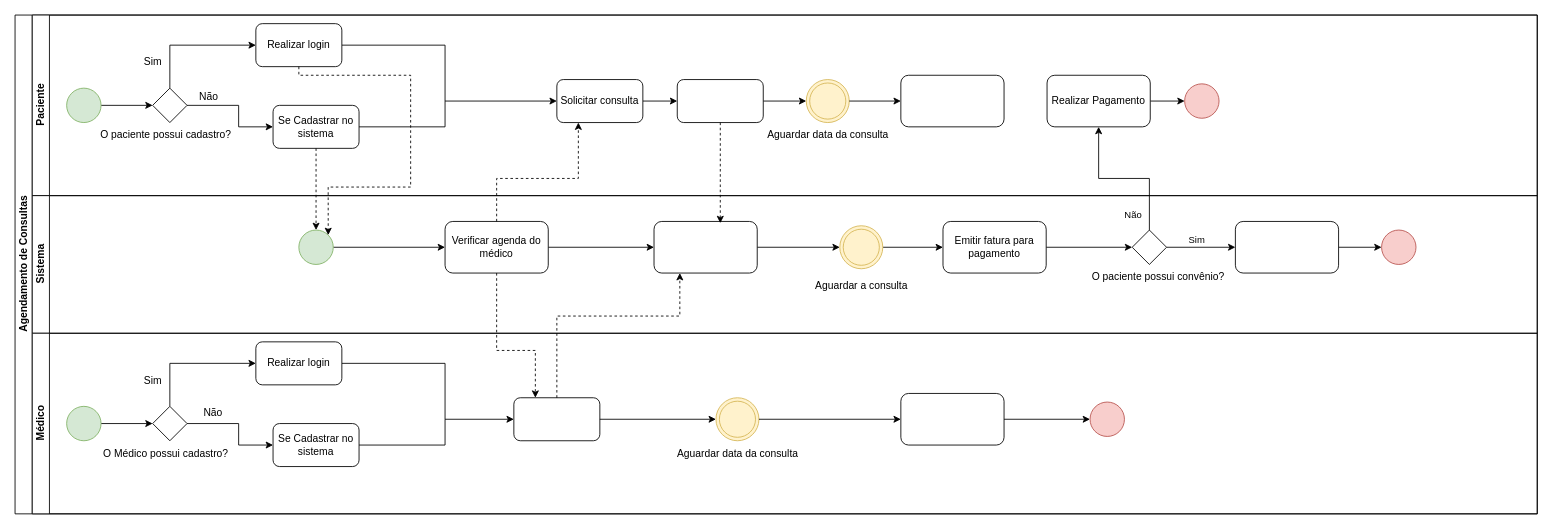
Some shapes in this 1552 by 529 pixel diagram are drawn without their labels. Each missing label, with the centre of its shape:
Agendar consulta: point 705,247
Cadastrar Agenda de consulta: point 556,419
Comparecer a Consulta: point 952,100
Enviar a fatura para o convênio: point 1287,247
Escolher uma data disponível: point 719,101
Realizar a Consulta: point 952,419
